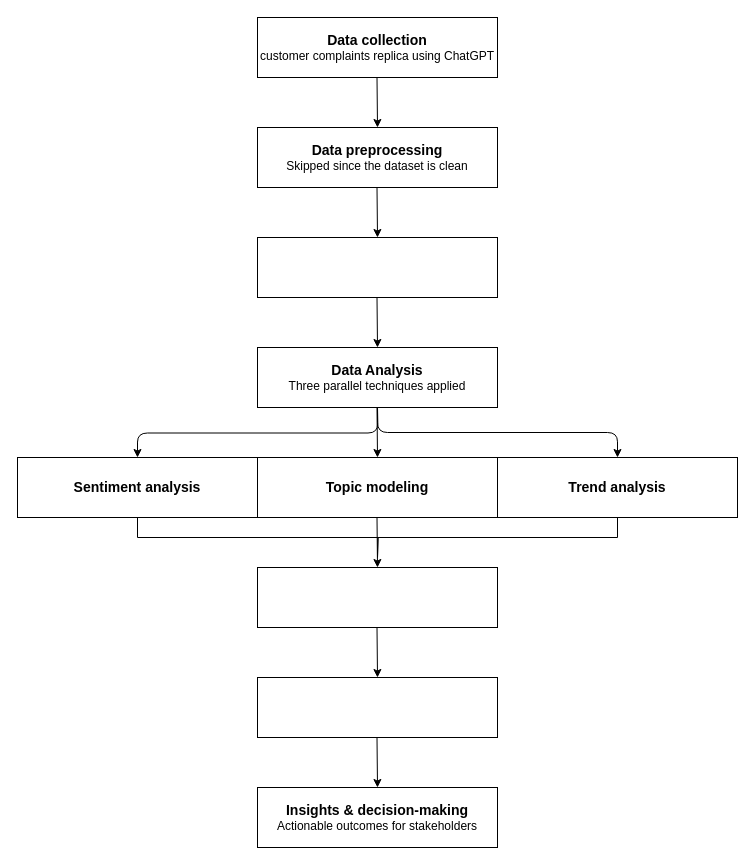
The diagram is 755 pixels wide and 865 high, and some of its shapes have lost their labels. Each missing label, with the box of its shape:
Dashboard development Built in Power BI: (256, 676, 498, 738)
Data Aggregation Structured dataset creation: (256, 566, 498, 628)
Feature engineering Text transformation: (256, 236, 498, 298)
